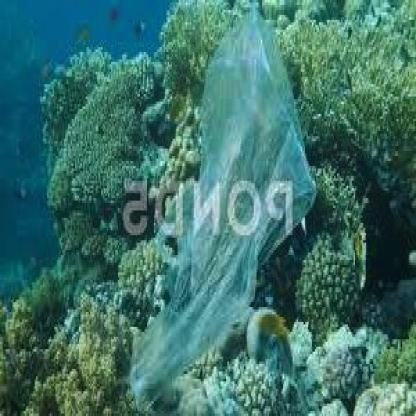pbag: (130, 10, 318, 413)
